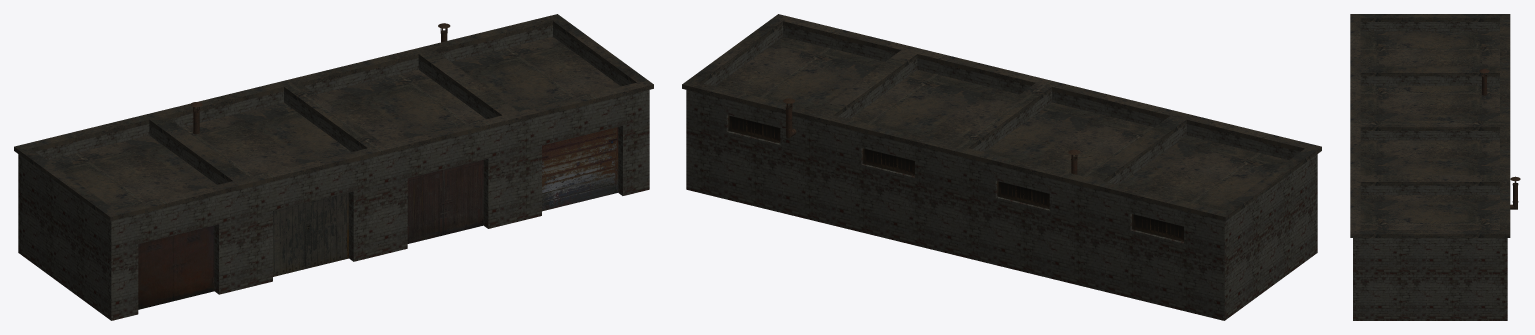
The model's file is garages_block_hr_1.glb.
The picture shows the model from 3 angles, left to right: view 1: azimuth 30°, elevation 25°; view 2: azimuth 150°, elevation 25°; view 3: azimuth 270°, elevation 25°; orthographic projection. The views are drawn at different scales.
Parts seen in each view (by area): view 1: garages_block_hr_1; view 2: garages_block_hr_1; view 3: garages_block_hr_1.
Part boxes in pixels (x1,y1,x2,y2): garages_block_hr_1: (14,14,653,320); garages_block_hr_1: (682,14,1321,320); garages_block_hr_1: (1350,14,1520,320).
Bounding box in the file's own units: 20.2 × 4.3 × 6.6.
8 materials, 8 textured.
